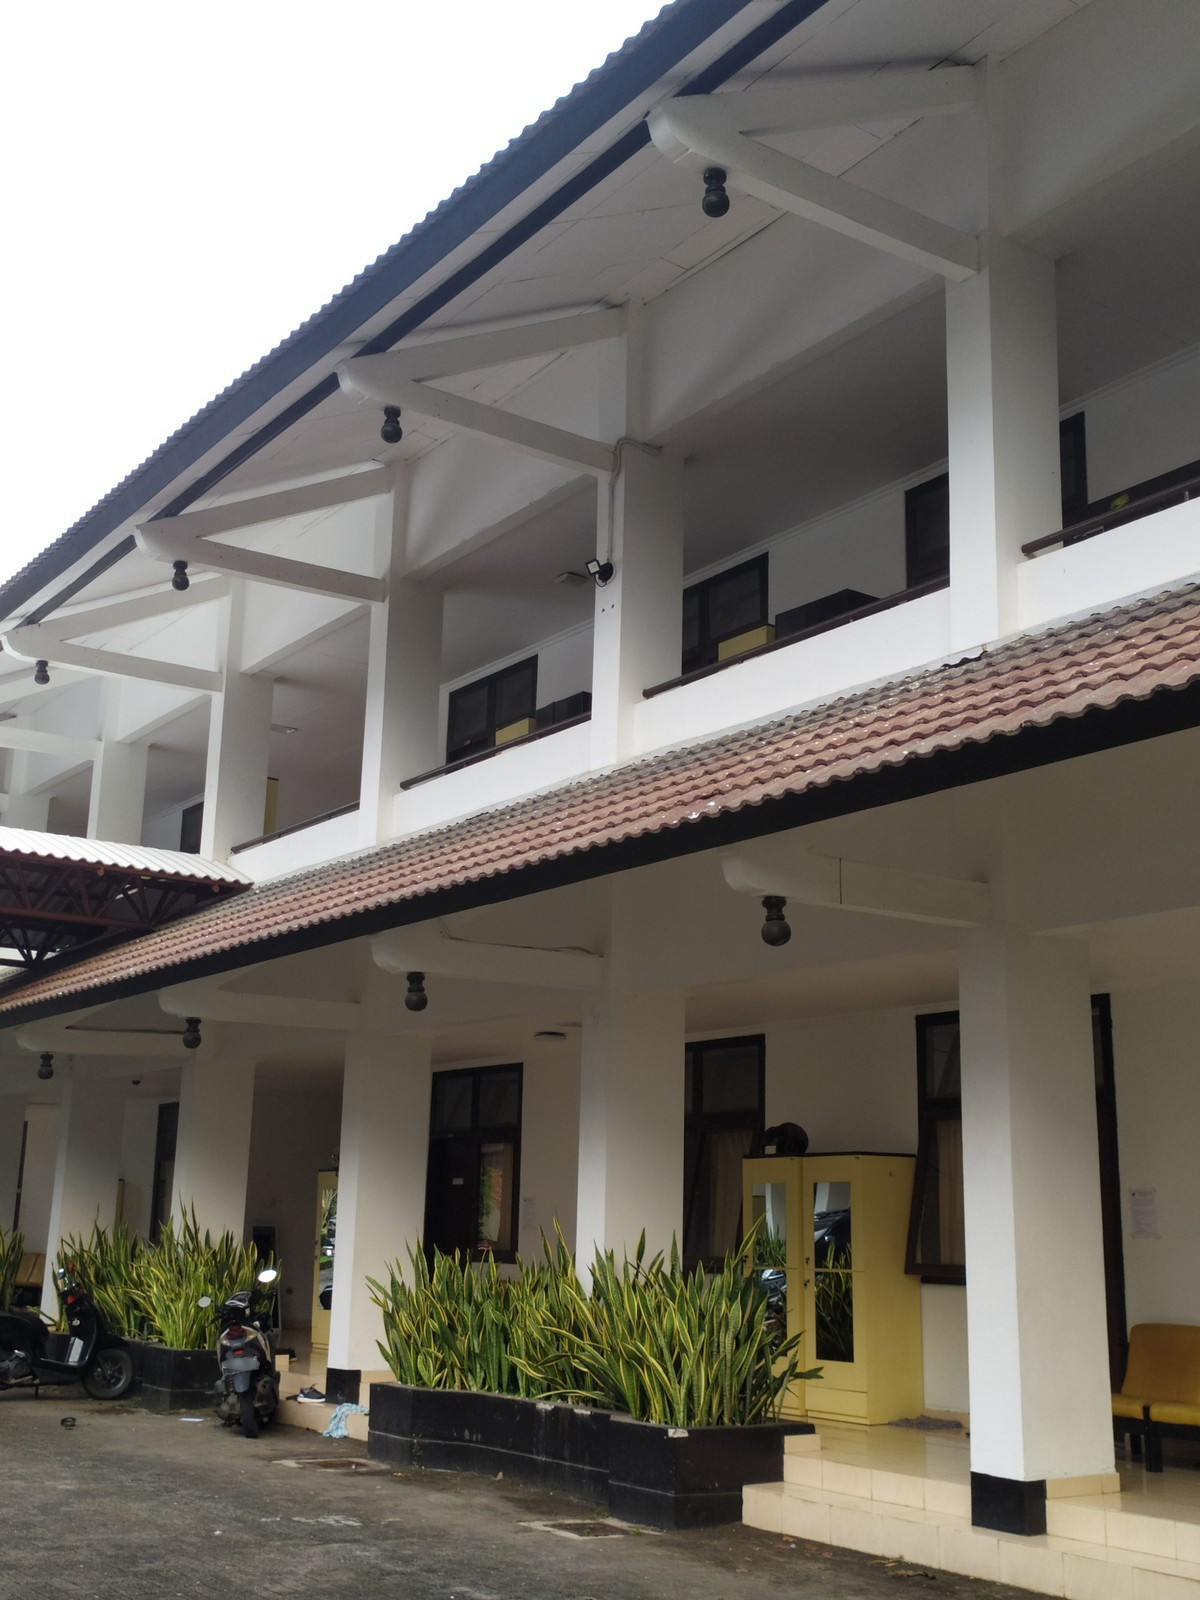concrete beam: (754, 157, 986, 294), (418, 393, 618, 484), (803, 855, 998, 941), (203, 540, 396, 615), (68, 648, 227, 708)
concrete column: (945, 826, 1136, 1548), (934, 222, 1075, 653), (568, 898, 701, 1310), (323, 965, 441, 1398), (584, 343, 698, 781), (349, 493, 454, 869), (192, 622, 287, 876), (160, 1022, 261, 1255), (39, 1086, 127, 1317), (76, 700, 156, 847)
